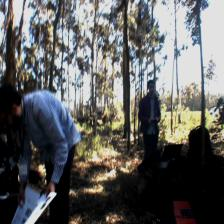trunktrack_idkeyframe: (200, 68, 208, 168), (122, 82, 132, 138)
